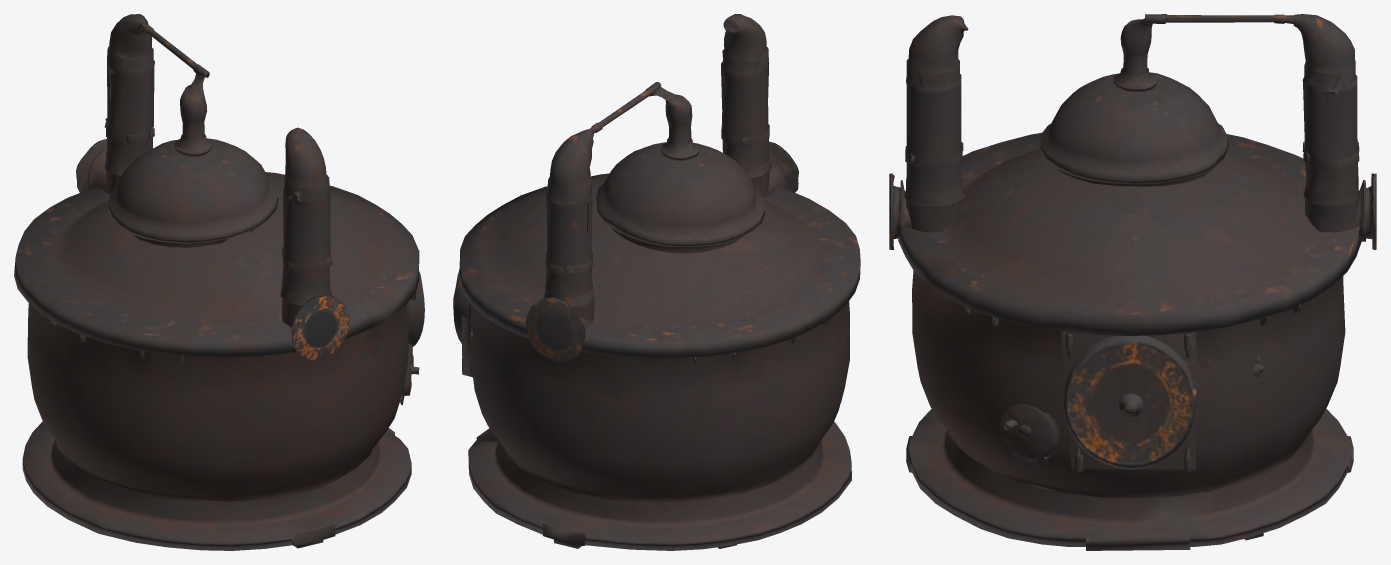
Rendered from furnace.glb.
3 views of the same model, side by side, from view 1: azimuth 30°, elevation 25°; view 2: azimuth 150°, elevation 25°; view 3: azimuth 270°, elevation 25° (orthographic). The views are drawn at different scales.
Bounding box in the file's own units: 0.8965 × 0.9507 × 0.9214.
1 material, 1 textured.
